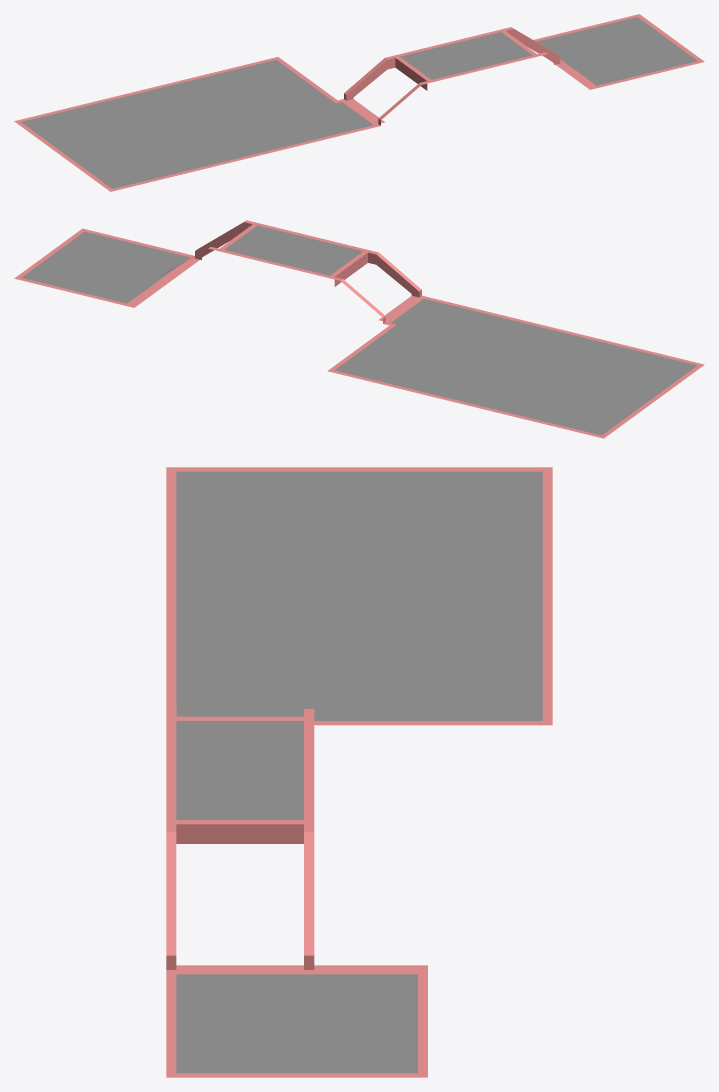
The model's file is S_Envi_Umeda_hall_85_g.gltf.
3 renders of one model, top to bottom at view 1: azimuth 30°, elevation 25°; view 2: azimuth 150°, elevation 25°; view 3: azimuth 270°, elevation 25°, orthographic. The views are drawn at different scales.
Visible parts, largest first — view 1: S_Envi_Umeda_hall_85_g; view 2: S_Envi_Umeda_hall_85_g; view 3: S_Envi_Umeda_hall_85_g.
Part boxes in pixels (x1=…): S_Envi_Umeda_hall_85_g: x1=14, y1=14, x2=704, y2=191; S_Envi_Umeda_hall_85_g: x1=14, y1=220, x2=704, y2=438; S_Envi_Umeda_hall_85_g: x1=166, y1=467, x2=552, y2=1077.
Size of the model in its own units: 27 by 2 by 7.6.
